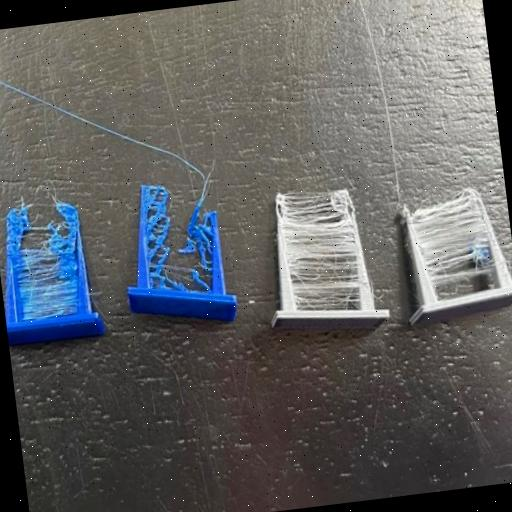stringing: (280, 199, 360, 309), (416, 210, 492, 292), (12, 232, 78, 324), (141, 192, 179, 285)
